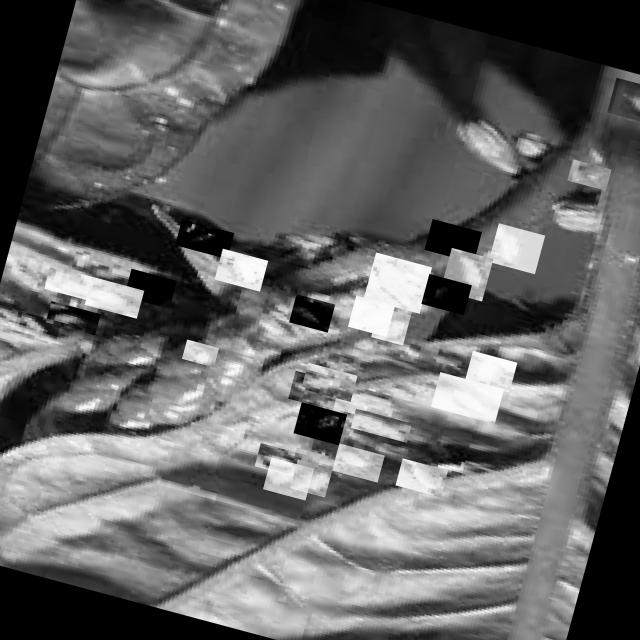aphid: (362, 252, 430, 313), (430, 372, 502, 424), (487, 222, 544, 274), (439, 247, 492, 301), (422, 218, 480, 262), (83, 276, 143, 318), (213, 248, 267, 291), (174, 218, 232, 258), (292, 402, 346, 444), (464, 350, 516, 392), (300, 362, 356, 401), (122, 268, 176, 308), (262, 457, 312, 500), (286, 370, 338, 410), (331, 443, 384, 482), (350, 408, 410, 442), (394, 458, 446, 497), (420, 274, 470, 314), (253, 442, 308, 478), (346, 295, 394, 336), (44, 300, 99, 334), (42, 265, 94, 300), (288, 294, 334, 332), (11, 310, 60, 345), (605, 77, 640, 125), (288, 458, 331, 496), (370, 306, 410, 344), (566, 158, 610, 190), (180, 339, 218, 367)
